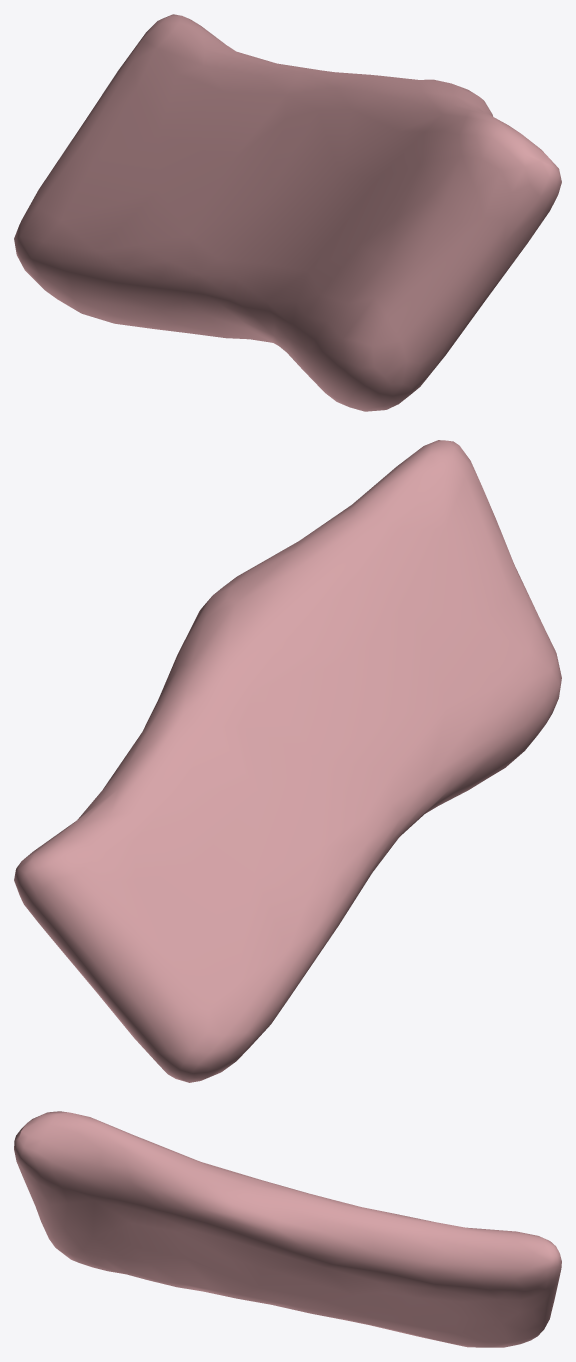
The model's file is fma275301_mm3763.glb.
3 renders of one model, top to bottom at view 1: azimuth 30°, elevation 25°; view 2: azimuth 150°, elevation 25°; view 3: azimuth 270°, elevation 25°, orthographic. The views are drawn at different scales.
Visible parts, largest first — view 1: FMA275301_MM3763; view 2: FMA275301_MM3763; view 3: FMA275301_MM3763.
Part boxes in pixels (box(x1,y1,x2,y2)): FMA275301_MM3763: box(14, 14, 561, 411); FMA275301_MM3763: box(14, 440, 561, 1082); FMA275301_MM3763: box(14, 1111, 561, 1347).
Size of the model in its own units: 0.00945 by 0.0139 by 0.0264.
